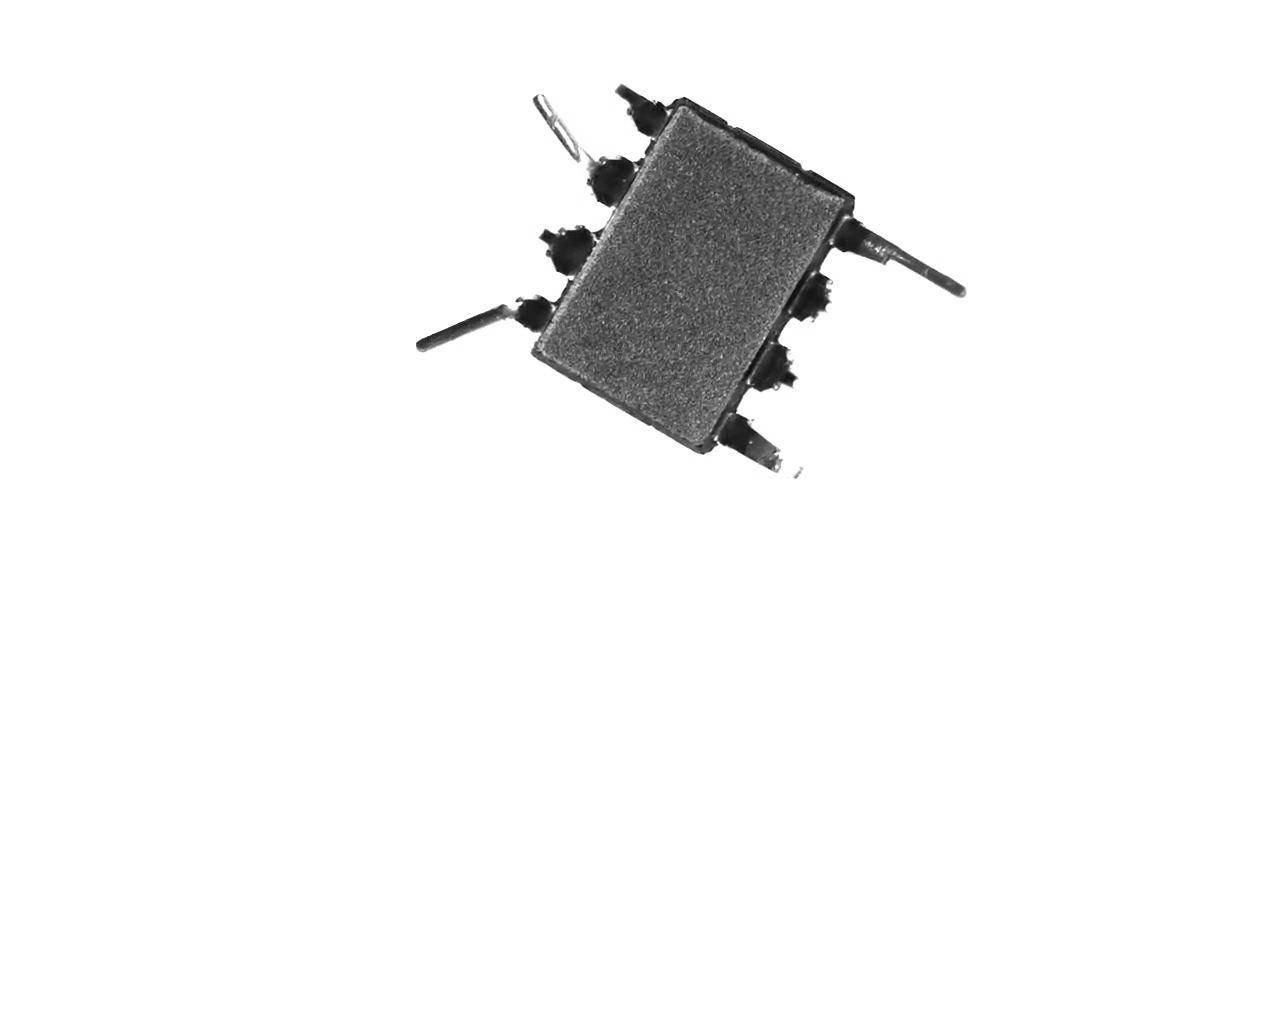Leg: (834, 209, 973, 301), (527, 93, 638, 207), (411, 296, 556, 350), (716, 408, 809, 487)
brokenLeg: (531, 222, 609, 280), (738, 338, 804, 403), (616, 75, 676, 139), (786, 264, 833, 328)
